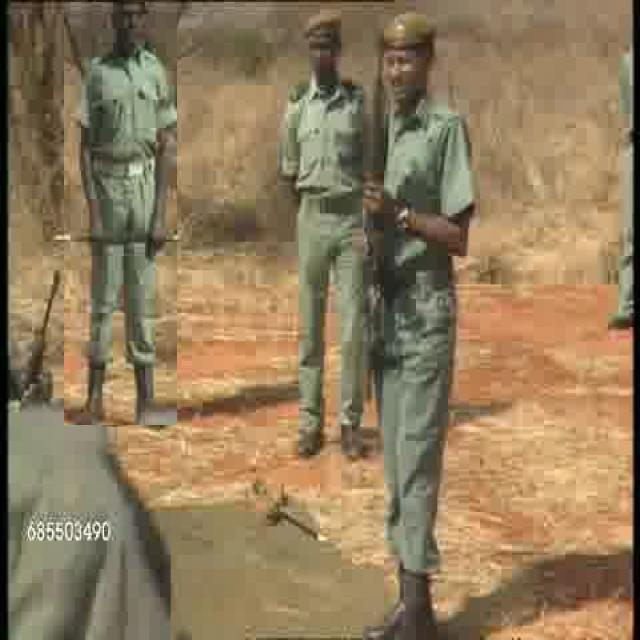poacher: (365, 1, 480, 632), (64, 2, 177, 425), (275, 1, 368, 454)
weapon: (370, 38, 390, 372)
